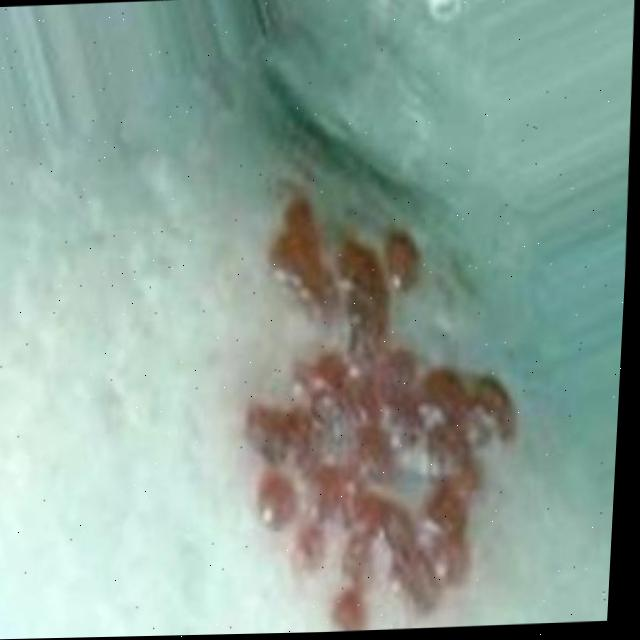Shingles: (228, 176, 537, 634)
